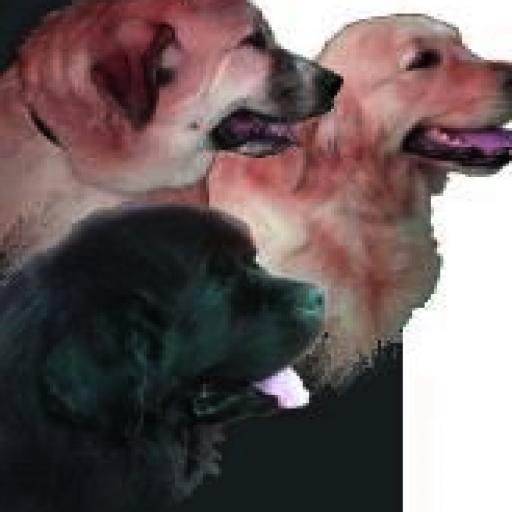dog_face: (41, 0, 306, 153), (318, 16, 512, 188)
